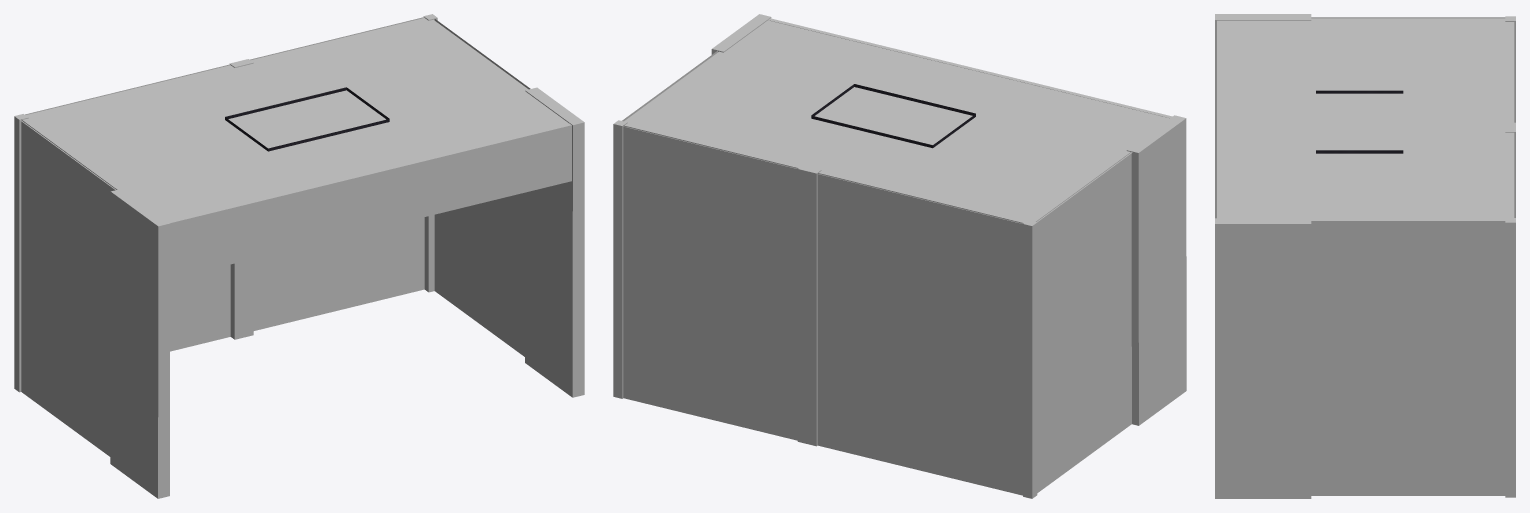
The model's file is shop_23a.fbx.
3 renders of one model, left to right at view 1: azimuth 30°, elevation 25°; view 2: azimuth 150°, elevation 25°; view 3: azimuth 270°, elevation 25°, orthographic.
Parts seen in each view (by area): view 1: shop_23a; view 2: shop_23a; view 3: shop_23a.
Boxes of the visible parts, x1,y1,x2,y2 form: shop_23a: [14, 14, 584, 498]; shop_23a: [613, 14, 1186, 498]; shop_23a: [1215, 14, 1515, 498].
Size of the model in its own units: 5.25 by 3.23 by 3.18.
